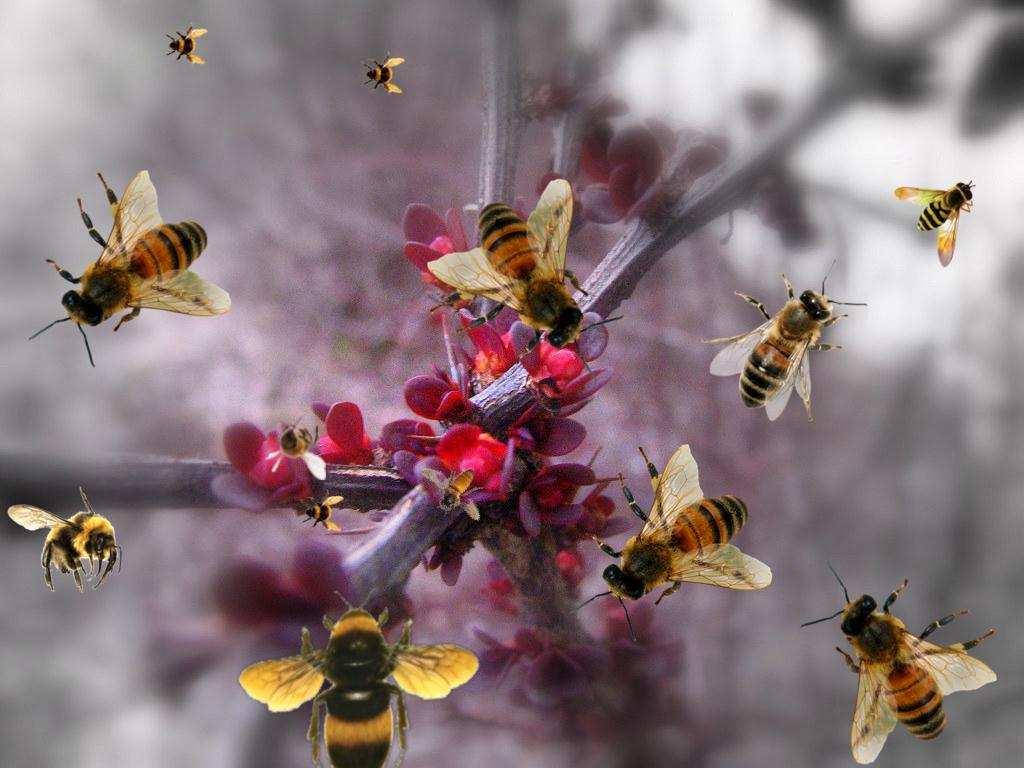Bee: (222, 544, 510, 768), (798, 561, 997, 765), (569, 444, 773, 643), (28, 170, 232, 369), (427, 178, 626, 382), (701, 259, 868, 421), (7, 486, 122, 593), (894, 180, 976, 268), (418, 448, 496, 535), (265, 410, 326, 480), (164, 22, 208, 66), (361, 51, 405, 95), (300, 489, 344, 533)
